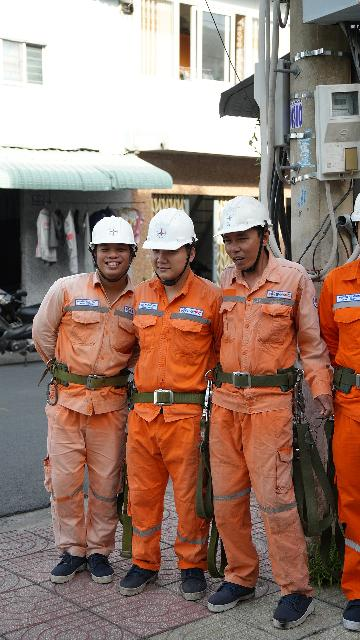harness: (47, 348, 136, 397), (204, 357, 313, 391), (118, 379, 206, 413), (322, 357, 360, 400)
helmet: (209, 185, 274, 252), (141, 208, 196, 260), (88, 213, 134, 255)
shoes: (264, 577, 336, 640), (198, 565, 255, 620), (109, 549, 156, 599), (82, 538, 122, 585), (174, 561, 213, 605), (46, 544, 83, 589), (336, 594, 360, 637)
